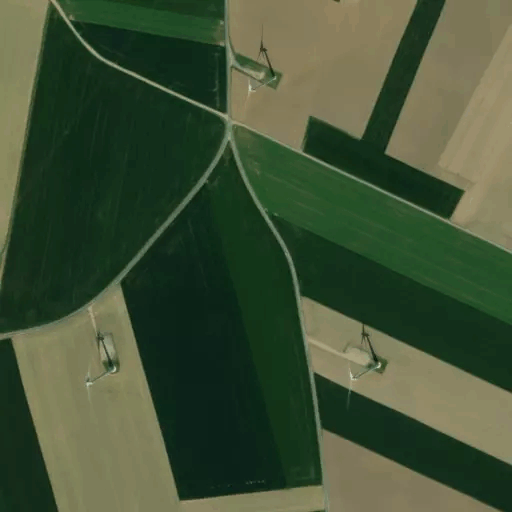wt: (228, 18, 298, 106), (337, 317, 396, 412), (80, 324, 125, 401)
